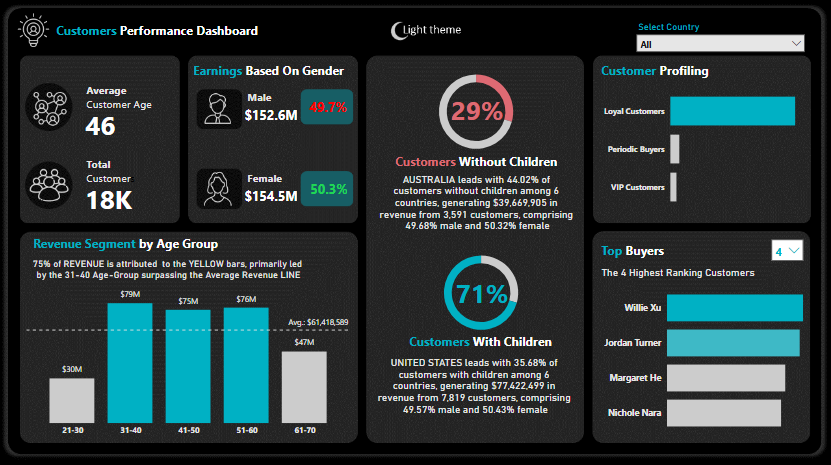

Layout of this report page (visuals, bound fields, positions):
{"tool":"powerbi","page":{"name":"Dark Theme","canvas":[1280,720],"ordinal":1},"visuals":[{"type":"clusteredColumnChart","fields":{"Category":["DimCustomer.Age Category"],"Y":["All Measures.Total Revenue"]},"box":[37.6,432.3,510.4,250.1],"z":0},{"type":"card","fields":{"Values":["Customer Measure.Avg Caption"]},"box":[26,380.4,465.8,73.5],"z":1000},{"type":"textbox","box":[48.1,358.4,310,42.6],"z":2000},{"type":"donutChart","fields":{"Y":["Customer Measure.%C without Children","Customer Measure.%CWC"]},"box":[638.4,97,191,152.8],"z":3000},{"type":"donutChart","fields":{"Y":["Customer Measure.%C without Children","Customer Measure.%CWC"]},"box":[645.8,375.8,191,152.8],"z":4000},{"type":"card","fields":{"Values":["Customer Measure.%C without Children"]},"box":[686.9,139.6,98.4,61.7],"z":5000},{"type":"card","fields":{"Values":["Customer Measure.%CWC"]},"box":[694.3,421.4,98.4,61.7],"z":6000},{"type":"textbox","box":[604.3,232.8,271.8,41.9],"z":7000},{"type":"textbox","box":[626,508.9,237.1,41.9],"z":8000},{"type":"card","fields":{"Values":["Customer Measure.Caption Customers Without Children"]},"box":[571.1,253,331.1,120],"z":9000},{"type":"card","fields":{"Values":["Customer Measure.Caption Customers With Children"]},"box":[568.2,532.8,330.6,124.9],"z":10000},{"type":"clusteredBarChart","fields":{"Category":["DimCustomer.Customer Type"],"Y":["All Measures.Total Revenue"]},"box":[923.9,114.2,323.9,228.4],"z":11000},{"type":"clusteredBarChart","fields":{"Category":["DimCustomer.Full Name"],"Y":["Customer Measure.Dynamic customers"]},"box":[923.9,419.3,323.9,266],"z":12000},{"type":"slicer","fields":{"Values":["Dynamic Customers.Dynamic Customers"]},"box":[1178.3,360,69.4,59.3],"z":13000},{"type":"card","fields":{"Values":["Customer Measure.% Male"]},"box":[465.5,146,79.5,41.9],"z":14000},{"type":"card","fields":{"Values":["Customer Measure.% Female"]},"box":[467,270.4,79.5,47.7],"z":15000},{"type":"card","fields":{"Values":["Customer Measure.#Customers"]},"box":[114.7,273.3,105.5,66.5],"z":16000},{"type":"card","fields":{"Values":["Customer Measure.Avg Customer Age"]},"box":[113.2,159.9,83.8,66.1],"z":17000},{"type":"textbox","box":[128.7,124.3,147.5,63.6],"z":18000},{"type":"textbox","box":[128.7,238.6,138.8,62.2],"z":19000},{"type":"card","fields":{"Values":["Customer Measure.Title Top Customers"]},"box":[913.7,397.6,261.7,50.6],"z":20000},{"type":"textbox","box":[921,92.5,237.1,41.9],"z":21000},{"type":"textbox","box":[921,368.7,237.1,41.9],"z":22000},{"type":"textbox","box":[293.5,92.5,254.5,41.9],"z":23000},{"type":"textbox","box":[377.3,135.9,65.1,39],"z":24000},{"type":"card","fields":{"Values":["Customer Measure.Male Revenue"]},"box":[360,160.5,117.1,40.5],"z":25000},{"type":"textbox","box":[377.3,260.2,65.1,39],"z":26000},{"type":"card","fields":{"Values":["Customer Measure.Female Revenue"]},"box":[360,284.8,117.1,40.5],"z":27000},{"type":"textbox","box":[82.4,30.4,360,41.9],"z":28000},{"type":"textbox","box":[978.6,28.6,118.6,31.4],"z":28001},{"type":"slicer","fields":{"Values":["DimGeography.Country"]},"box":[970,44.3,278.6,38.6],"z":28002},{"type":"pageNavigator","box":[594.3,32.9,125.7,34.3],"z":28003}]}

Visuals, with their boxes in screenshot pixels (x1, y1, x2, y2), scaled from the page's 1280x720 canvas onto the 831x465 screenshot:
clusteredColumnChart - DimCustomer.Age Category x All Measures.Total Revenue: locate(24, 279, 356, 441)
card - Customer Measure.Avg Caption: locate(17, 246, 319, 293)
textbox: locate(31, 231, 232, 259)
donutChart - Customer Measure.%C without Children x Customer Measure.%CWC: locate(414, 63, 538, 161)
donutChart - Customer Measure.%C without Children x Customer Measure.%CWC: locate(419, 243, 543, 341)
card - Customer Measure.%C without Children: locate(446, 90, 510, 130)
card - Customer Measure.%CWC: locate(451, 272, 515, 312)
textbox: locate(392, 150, 569, 177)
textbox: locate(406, 329, 560, 356)
card - Customer Measure.Caption Customers Without Children: locate(371, 163, 586, 241)
card - Customer Measure.Caption Customers With Children: locate(369, 344, 584, 425)
clusteredBarChart - DimCustomer.Customer Type x All Measures.Total Revenue: locate(600, 74, 810, 221)
clusteredBarChart - DimCustomer.Full Name x Customer Measure.Dynamic customers: locate(600, 271, 810, 443)
slicer - Dynamic Customers.Dynamic Customers: locate(765, 232, 810, 271)
card - Customer Measure.% Male: locate(302, 94, 354, 121)
card - Customer Measure.% Female: locate(303, 175, 355, 205)
card - Customer Measure.#Customers: locate(74, 177, 143, 219)
card - Customer Measure.Avg Customer Age: locate(73, 103, 128, 146)
textbox: locate(84, 80, 179, 121)
textbox: locate(84, 154, 174, 194)
card - Customer Measure.Title Top Customers: locate(593, 257, 763, 289)
textbox: locate(598, 60, 752, 87)
textbox: locate(598, 238, 752, 265)
textbox: locate(191, 60, 356, 87)
textbox: locate(245, 88, 287, 113)
card - Customer Measure.Male Revenue: locate(234, 104, 310, 130)
textbox: locate(245, 168, 287, 193)
card - Customer Measure.Female Revenue: locate(234, 184, 310, 210)
textbox: locate(53, 20, 287, 47)
textbox: locate(635, 18, 712, 39)
slicer - DimGeography.Country: locate(630, 29, 811, 54)
pageNavigator: locate(386, 21, 467, 43)
